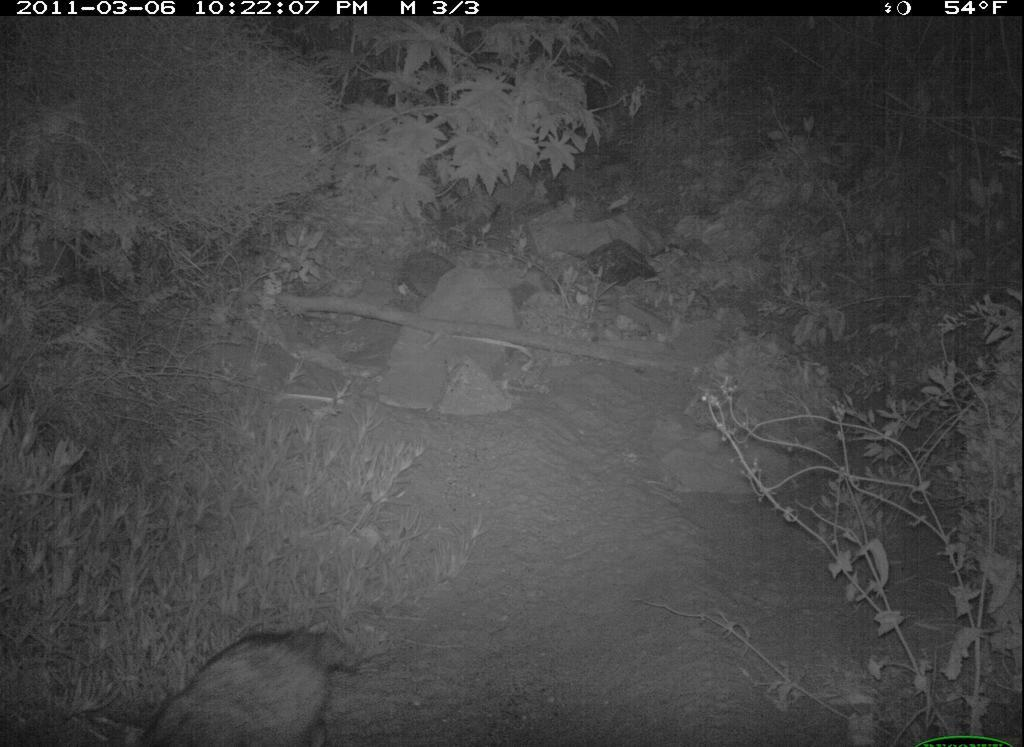raccoon: (153, 626, 367, 742)
